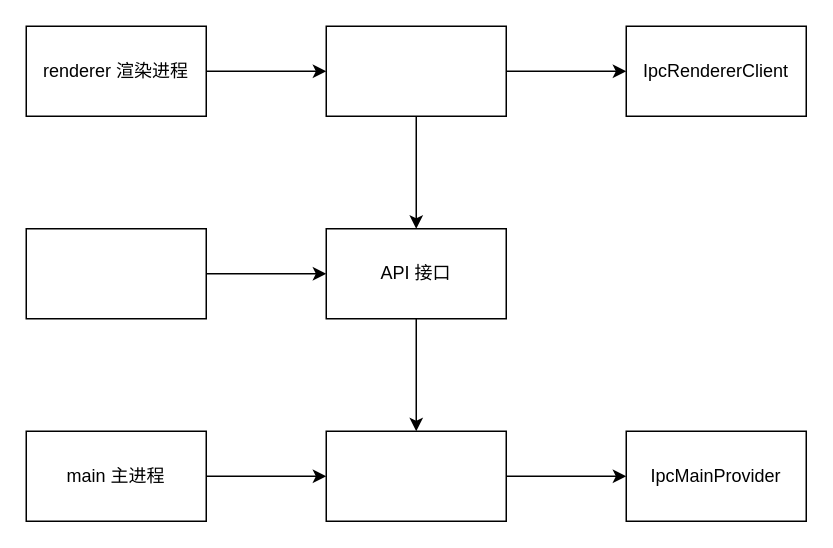
Image size: 833x548. Some labels were removed from this diagram. Each missing label, with the centre of its shape:
API 接口实现类: the point at 415,475
shared 共享层: the point at 115,273
根据 API 接口通过泛型生成 api client 实例: the point at 415,70
